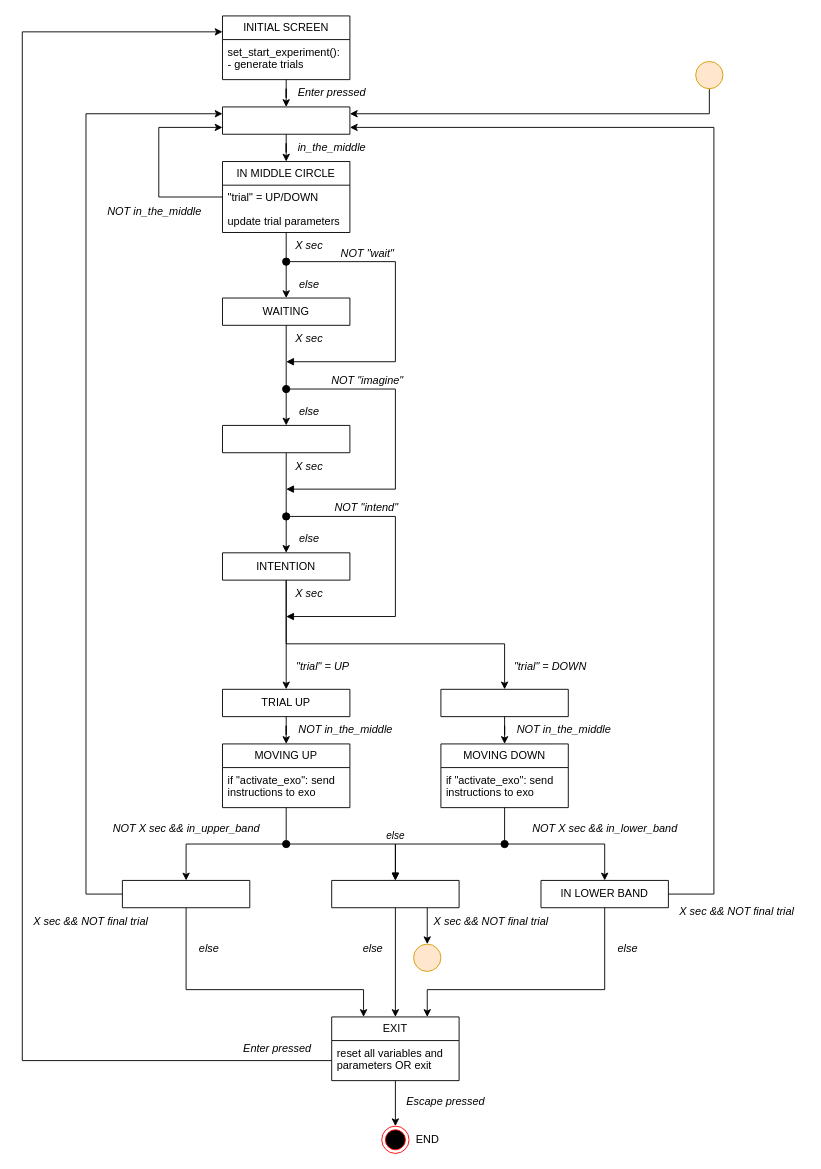
Some shapes in this 821 by 1169 pixel diagram are drawn without their labels. Each missing label, with the centre of its shape:
FAILURE: point (395, 894)
IMAGINATION: point (286, 439)
IN UPPER BAND: point (185, 894)
RETURN TO CENTER: point (286, 120)
TRIAL DOWN: point (504, 702)
